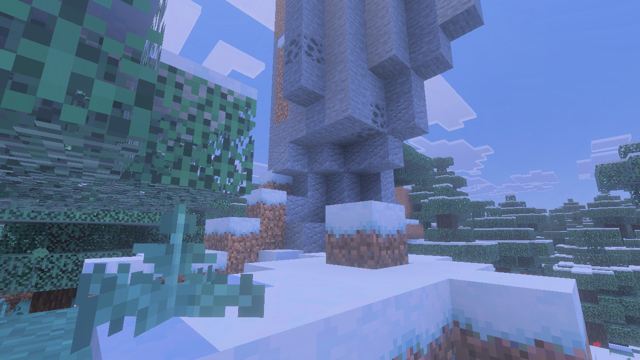coal: (283, 30, 326, 71), (347, 102, 390, 141)
